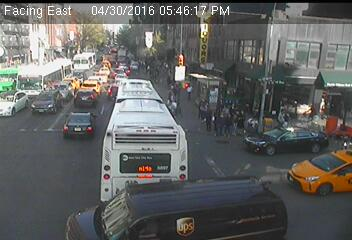neg: (84, 139, 125, 193), (253, 130, 290, 180), (30, 111, 66, 159), (17, 34, 53, 81), (310, 159, 342, 201), (181, 195, 212, 237), (239, 5, 269, 45), (277, 15, 302, 49), (100, 60, 123, 90), (206, 146, 229, 176), (61, 95, 81, 121), (213, 6, 230, 28), (132, 35, 146, 54), (135, 13, 145, 27), (67, 60, 77, 73), (71, 33, 77, 41)
pos: (162, 98, 186, 129)
